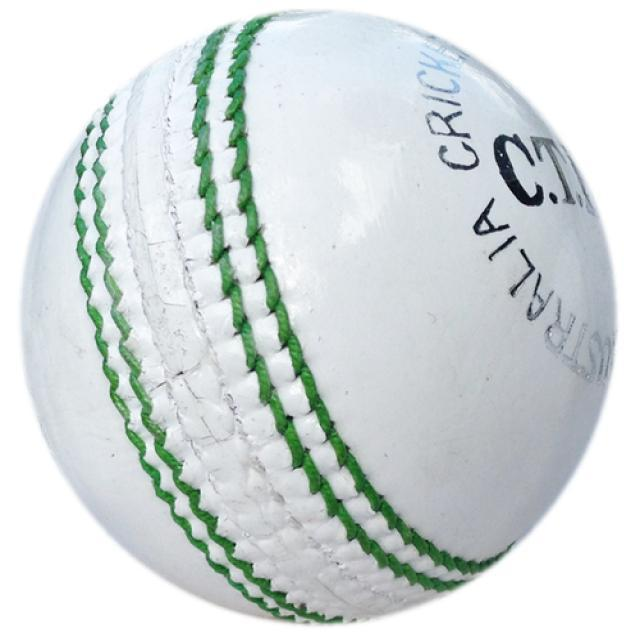cricket ball: (17, 9, 618, 627)
